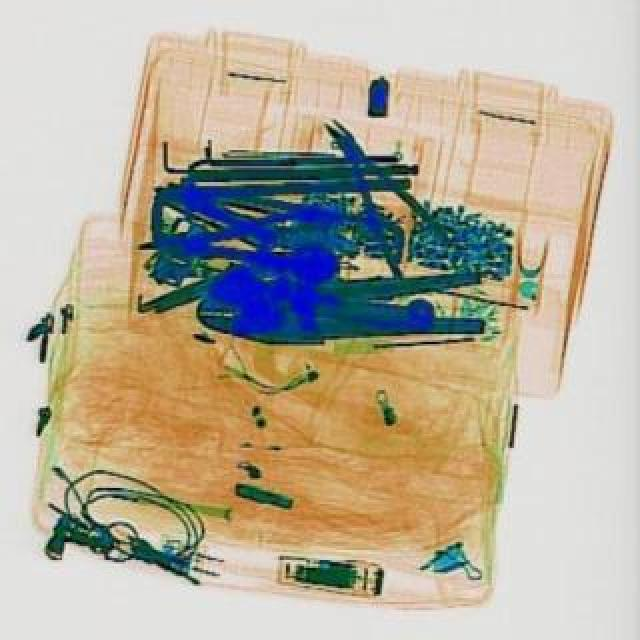wrench: (304, 100, 460, 280), (194, 266, 490, 350), (140, 208, 346, 276)
